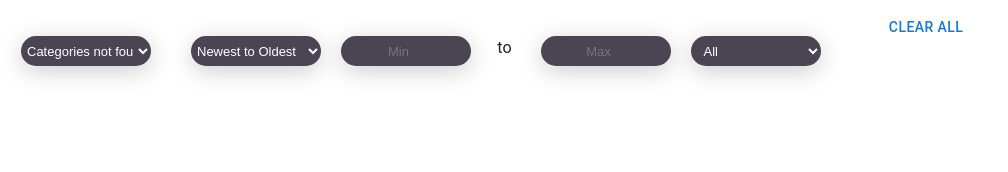
enter diffrent price values to cover error messages
Expected: the element with test id "topbarpage" is shown, top-left (21, 12), bottom-right (991, 66)
Type "e1000" into the number field with test id "start-price" at (406, 51), box top-left (341, 36), bottom-right (471, 66)
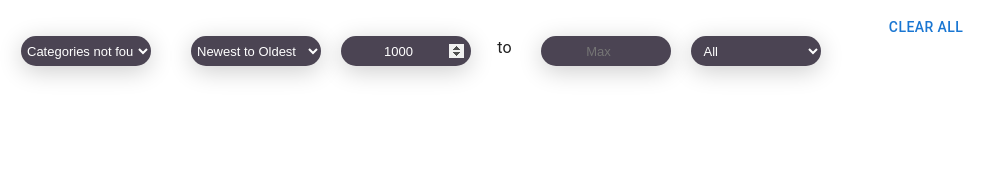
Expected: the number field with test id "start-price" holds "1000", top-left (341, 36), bottom-right (471, 66)
Type "1000" into the number field with test id "end-price" at (606, 51), box top-left (541, 36), bottom-right (671, 66)
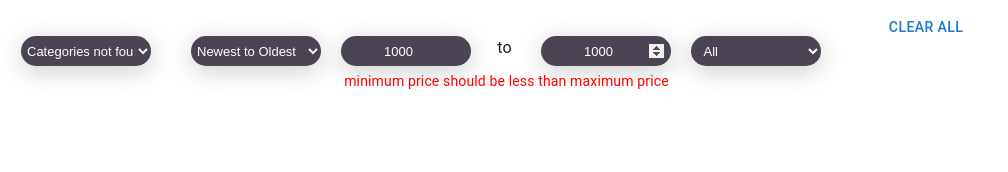
Type "0" into the number field with test id "start-price" at (406, 51), box top-left (341, 36), bottom-right (471, 66)
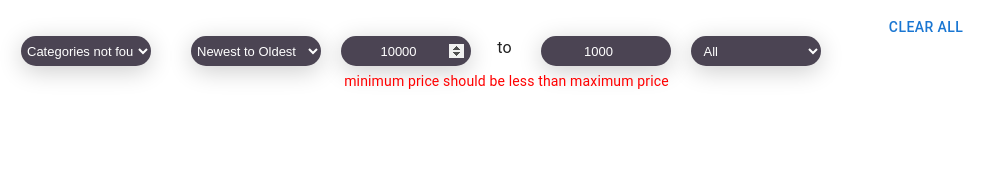
Expected: the number field with test id "start-price" holds "10000", top-left (341, 36), bottom-right (471, 66)
Type "e000" into the number field with test id "end-price" at (606, 51), box top-left (541, 36), bottom-right (671, 66)
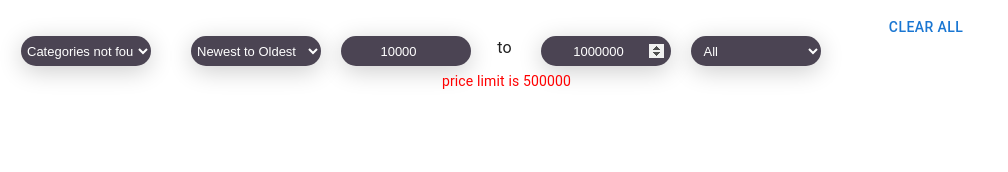
Expected: the number field with test id "end-price" holds "1000000", top-left (541, 36), bottom-right (671, 66)
